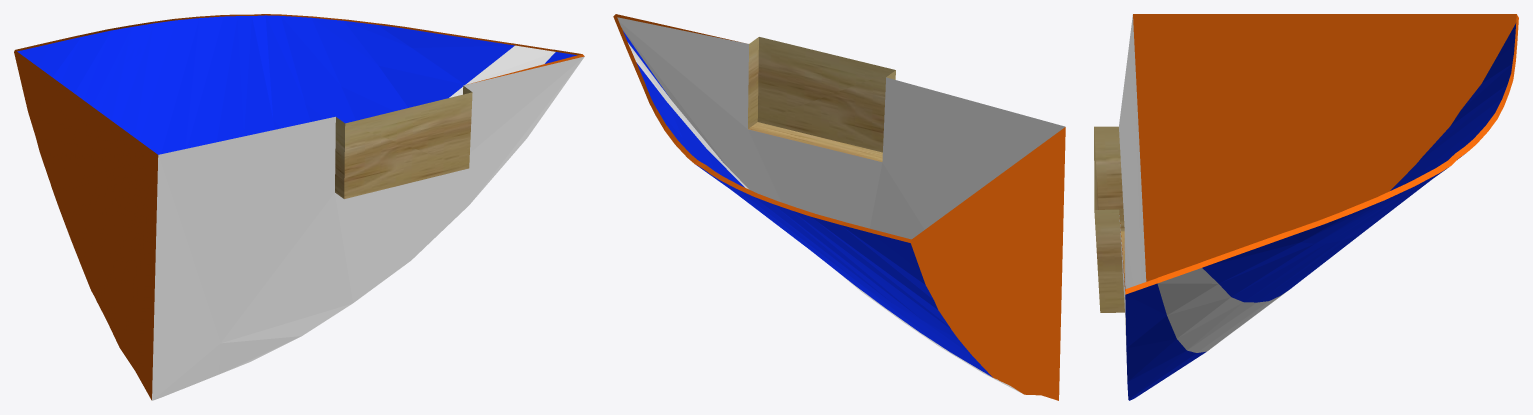
Rendered from frontRight.dae.
The picture shows the model from 3 angles, left to right: view 1: azimuth 30°, elevation 25°; view 2: azimuth 150°, elevation 25°; view 3: azimuth 270°, elevation 25°; orthographic projection. The views are drawn at different scales.
Parts seen in each view (by area): view 1: node; view 2: node; view 3: node.
Part boxes in pixels (x1,y1,x2,y2): node: (14,14,584,400); node: (613,14,1065,400); node: (1094,14,1518,400).
Bounding box in the file's own units: 1.71 × 0.9669 × 1.11.
4 materials, 4 textured.
